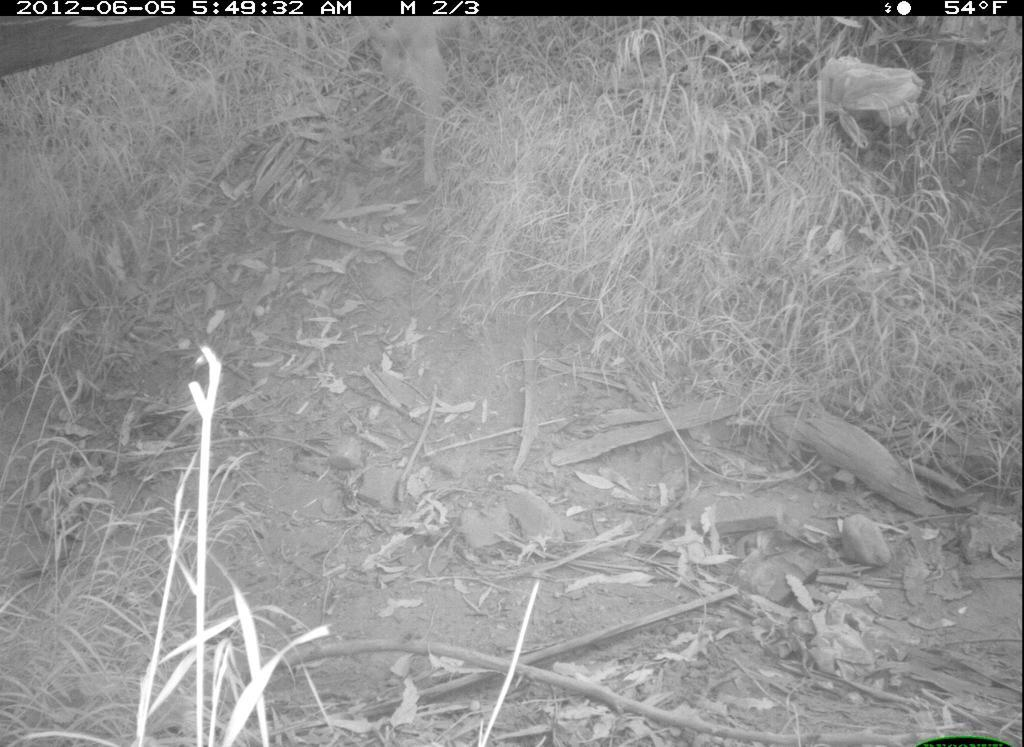dog: (346, 15, 498, 197)
